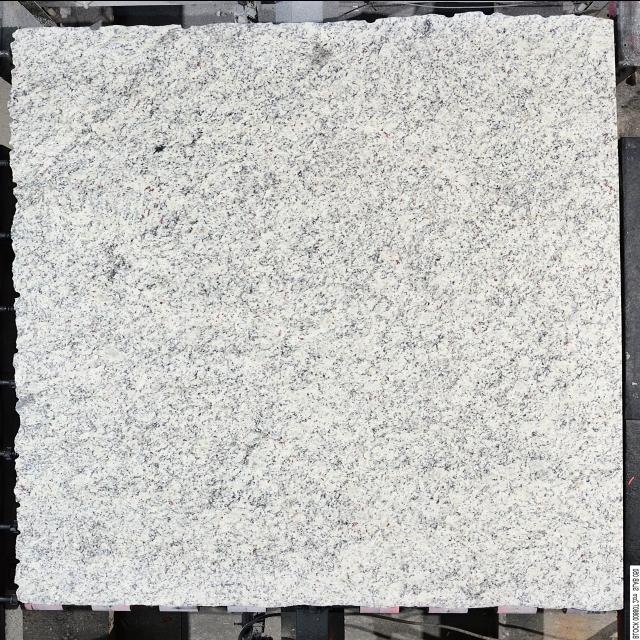chapa: (10, 12, 622, 609)
veio: (87, 23, 102, 31), (365, 16, 377, 24), (180, 23, 194, 29)
